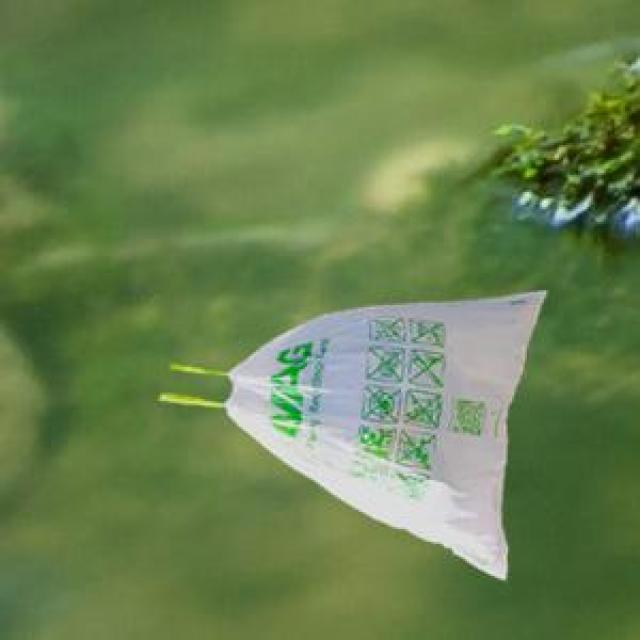plastic: (110, 254, 605, 606)
